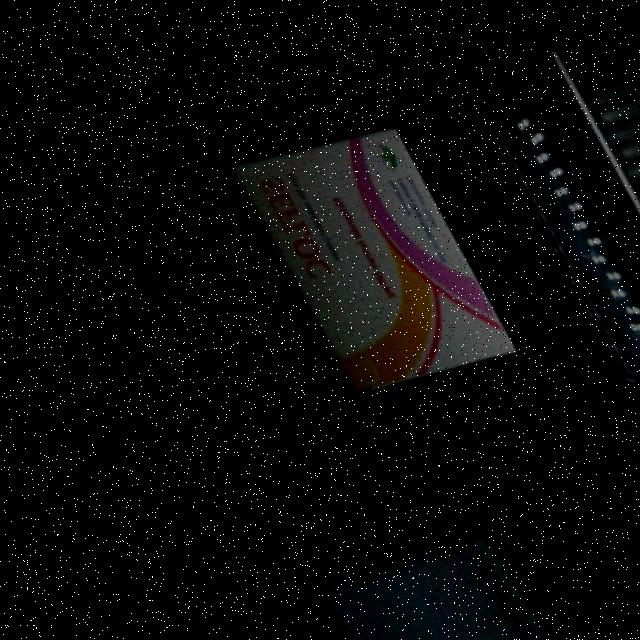medicine_name_detection: (187, 88, 561, 425)
